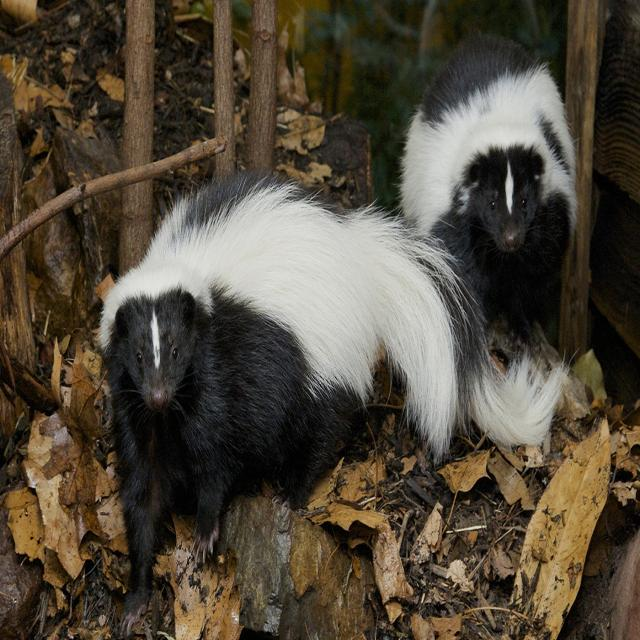Skunk: (92, 141, 437, 599)
